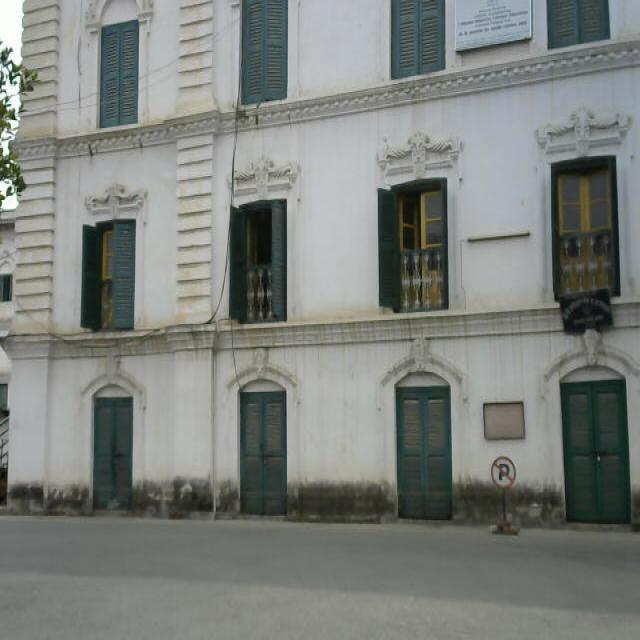Buildings: (0, 0, 624, 468)
NoParking: (492, 448, 525, 543)
Road: (0, 513, 640, 640)
